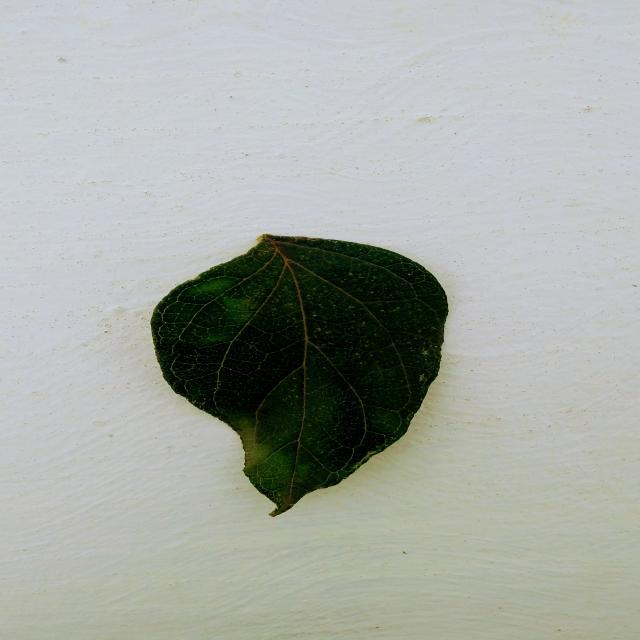leaf: (149, 232, 449, 516)
